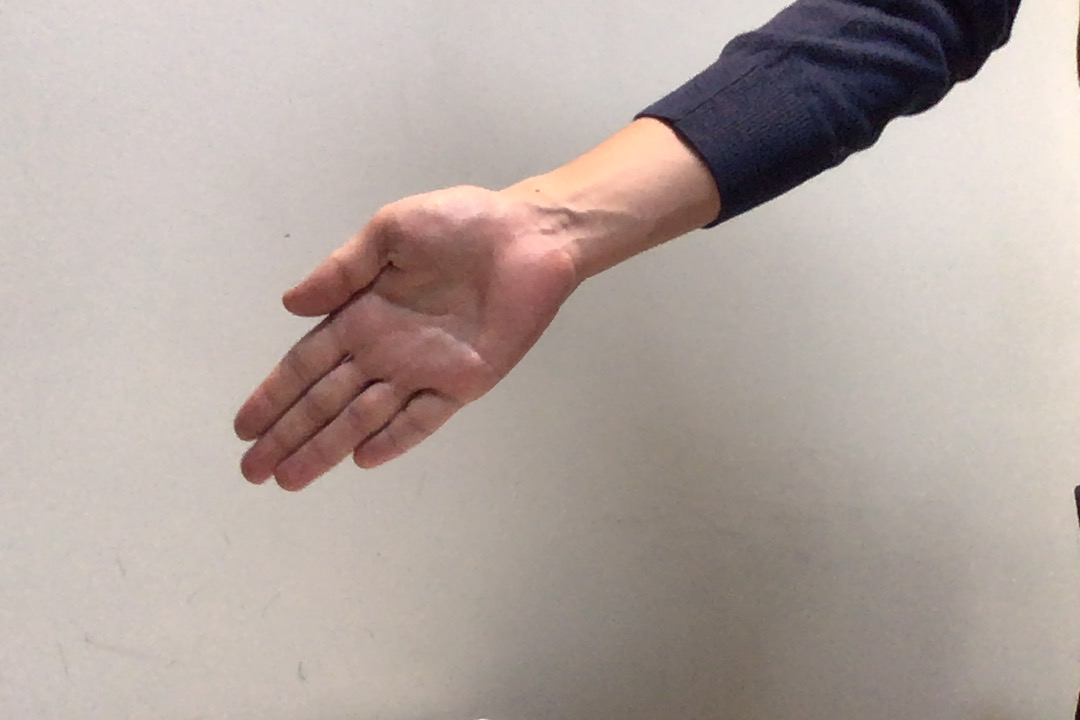palmhand: (226, 180, 571, 501)
